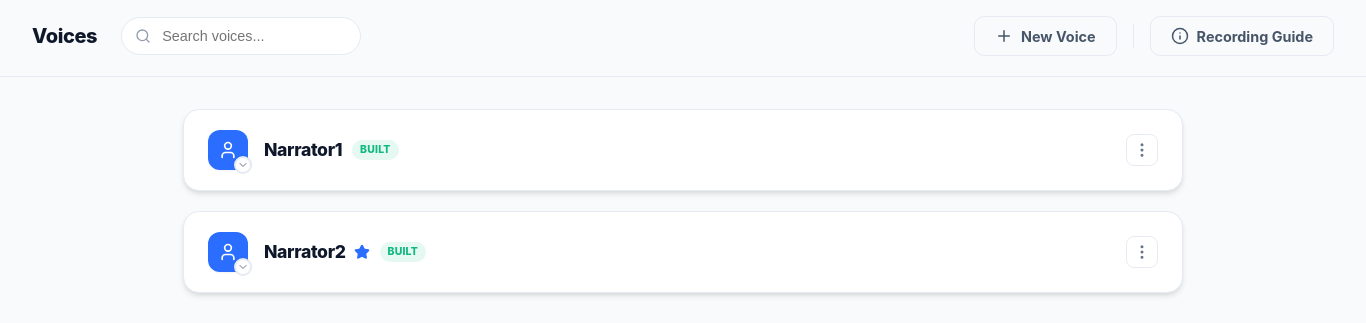
Test: VoicesTab › shows delete option in ActionMenu
Open Voice ActionMenu
Click the button named "more actions" in the row of "Narrator1": click(1142, 150) x1=1126 y1=134 x2=1158 y2=166
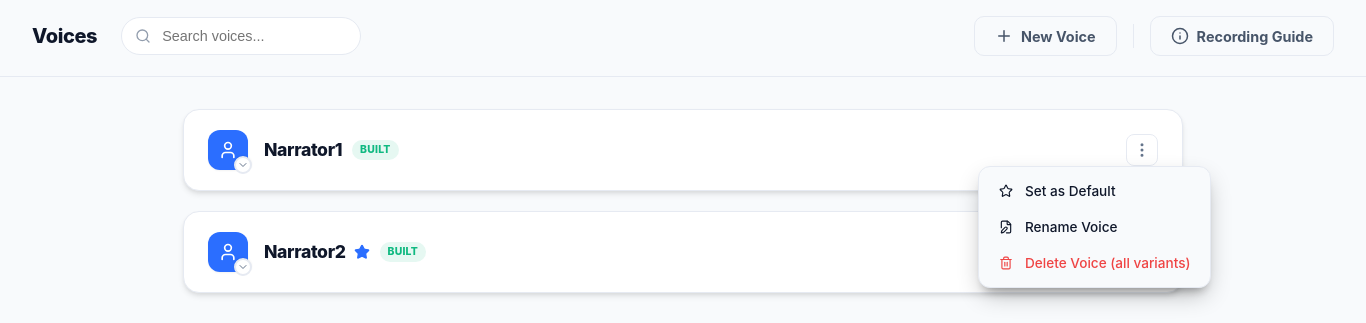
Now the button "Delete Voice (all variants)" is shown, box x1=985 y1=245 x2=1204 y2=281
